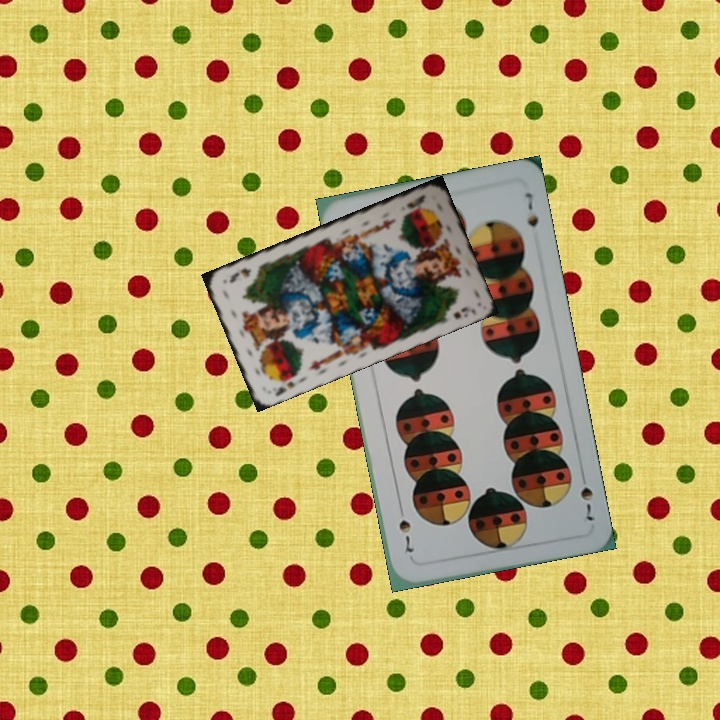S7: (576, 468, 598, 524)
SK: (271, 369, 305, 399), (403, 190, 428, 211)
